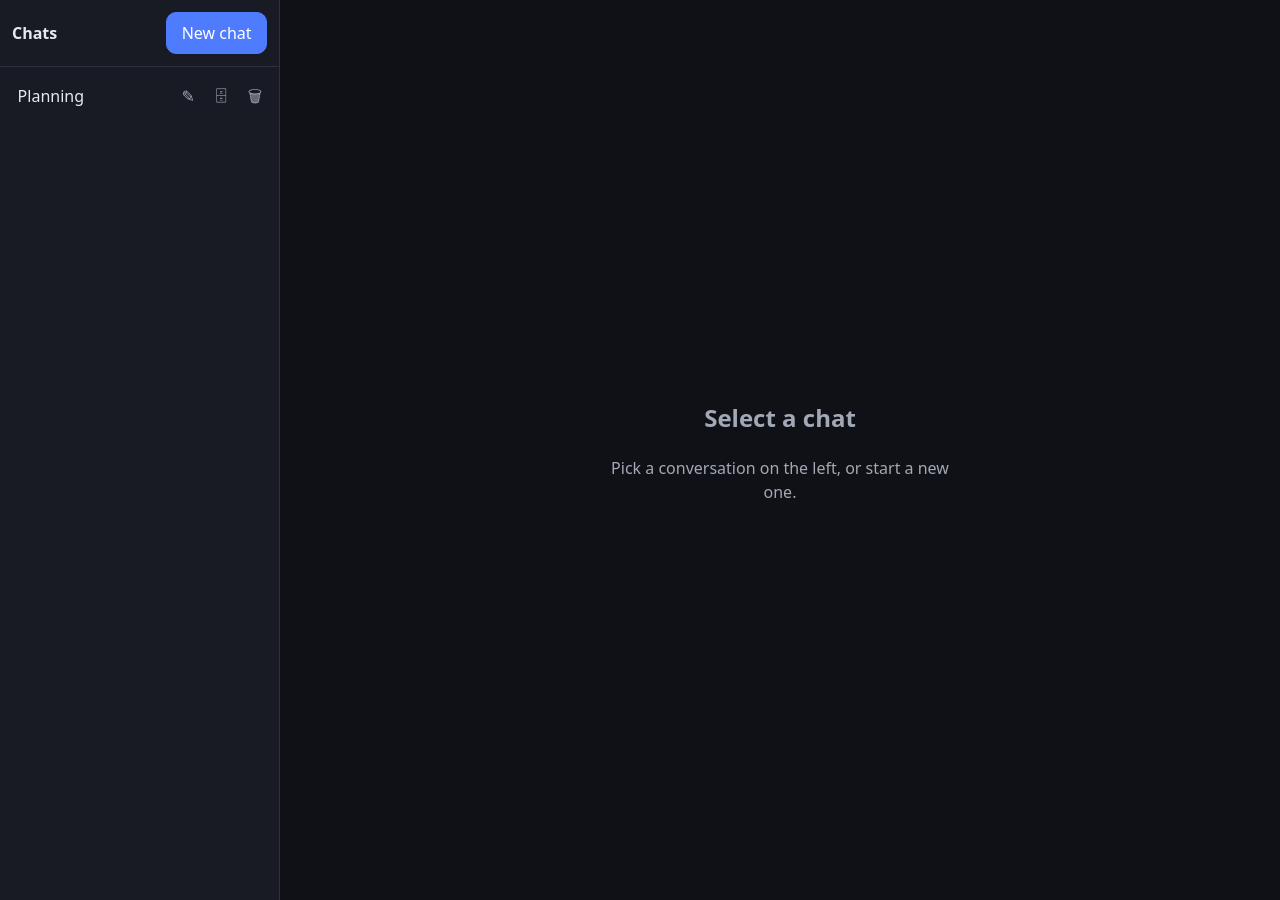
Test: session list › deletes a session
The image size is (1280, 900).
Click the button named "Delete Planning": (255, 96) [241, 79, 269, 113]
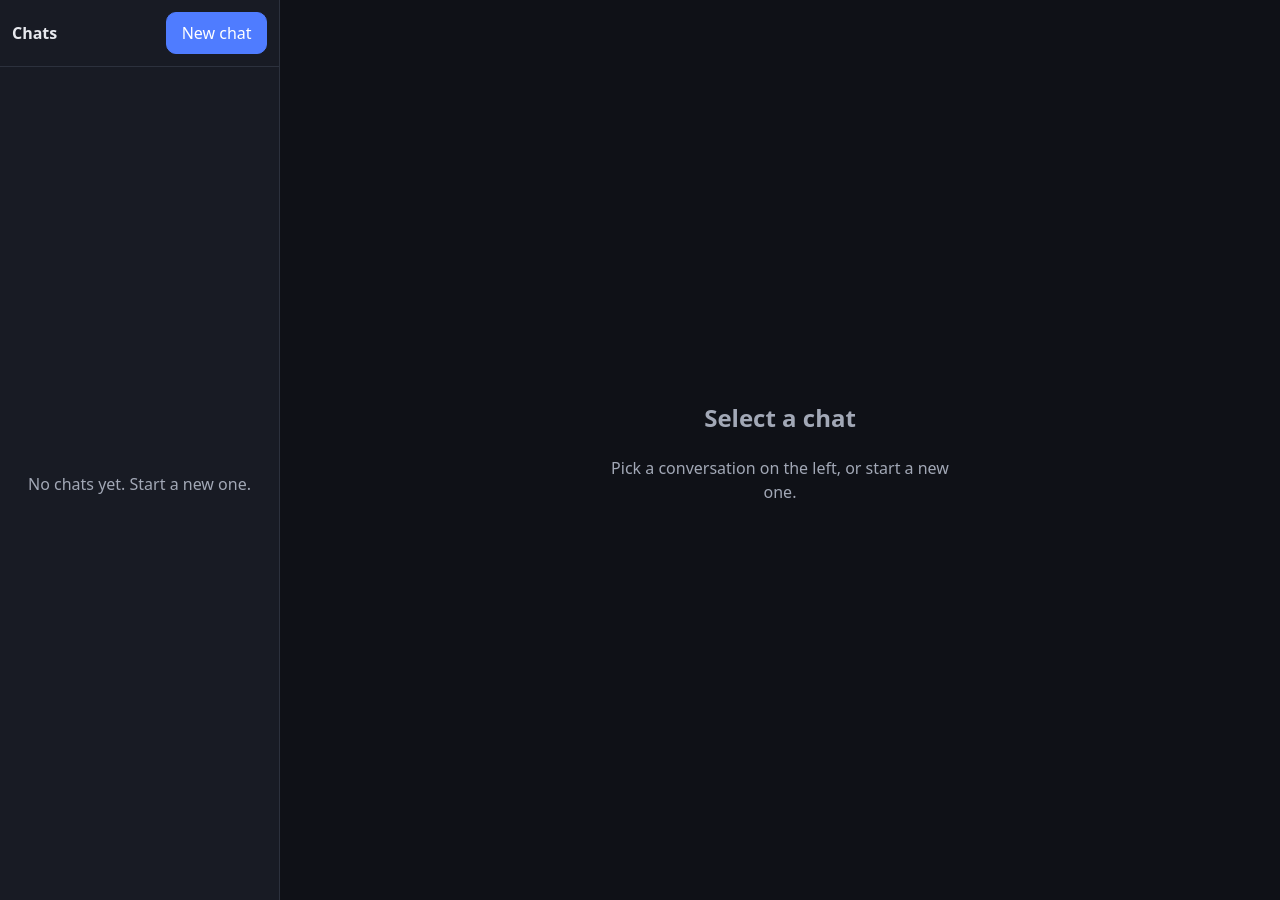
Now the text "No chats yet. Start a new one." is shown, box [28, 472, 251, 496]
